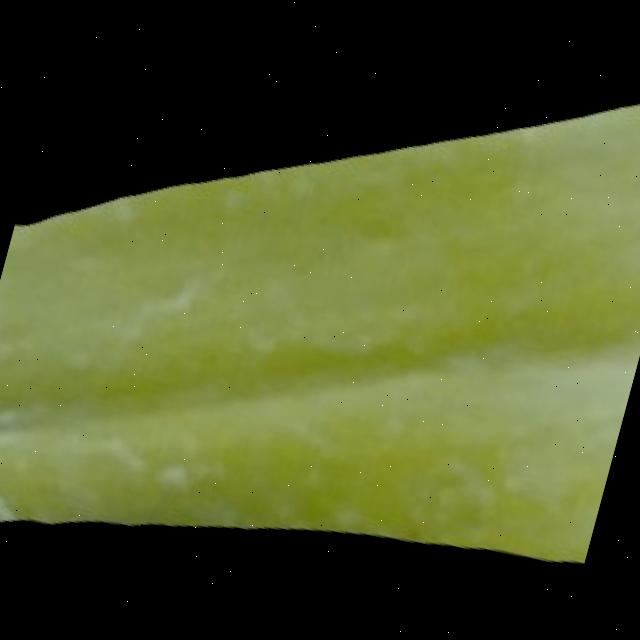mite: (142, 445, 202, 501)
sunburn: (0, 400, 588, 637)
